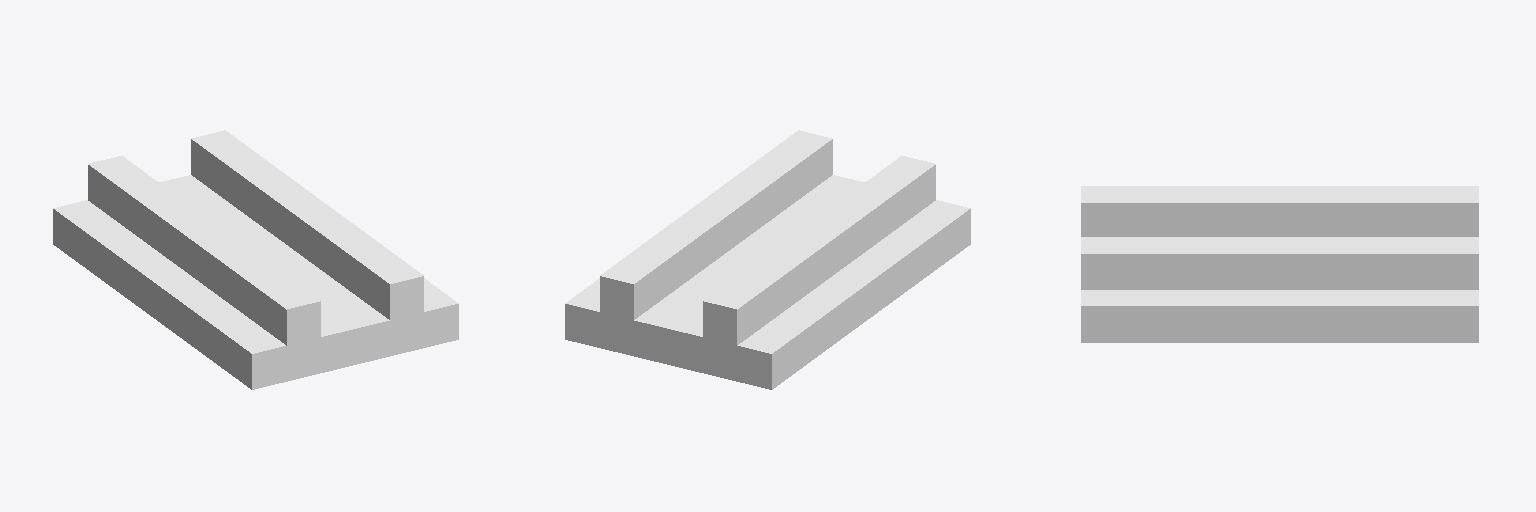
Rendered from SawWay.obj.
3 views of the same model, side by side, from view 1: azimuth 30°, elevation 25°; view 2: azimuth 150°, elevation 25°; view 3: azimuth 270°, elevation 25° (orthographic).
Visible parts, largest first — view 1: object 1; view 2: object 1; view 3: object 1.
Part boxes in pixels (left/top/right/bottom): object 1: left=53, top=130, right=458, bottom=389; object 1: left=565, top=130, right=970, bottom=389; object 1: left=1081, top=186, right=1478, bottom=342.
Bounding box in the file's own units: 0.6 × 0.2 × 1.